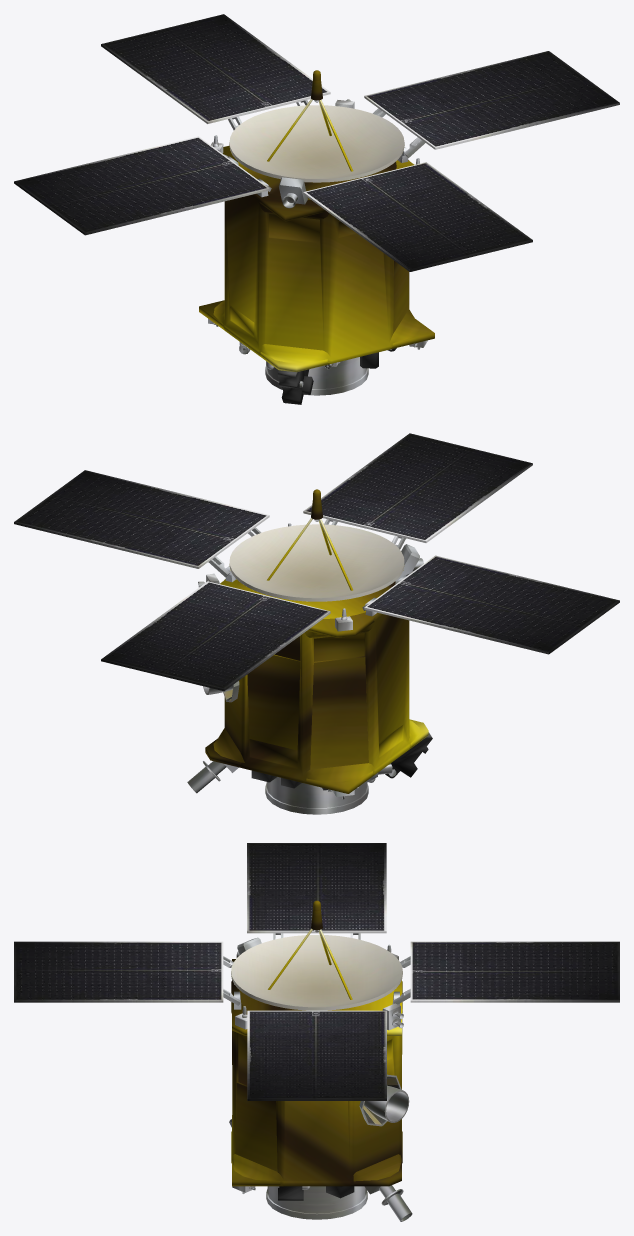
Rendered from space-near.glb.
3 views of the same model, one above another, from view 1: azimuth 30°, elevation 25°; view 2: azimuth 150°, elevation 25°; view 3: azimuth 270°, elevation 25° (orthographic).
Visible parts, largest first — view 1: tex_01, foil_gold, foil_silver; view 2: tex_01, foil_gold, foil_silver; view 3: tex_01, foil_gold, foil_silver.
Boxes of the visible parts, bbox=[...] form: tex_01: bbox=[14, 14, 619, 395]; foil_gold: bbox=[199, 70, 434, 372]; foil_silver: bbox=[277, 348, 396, 404]; tex_01: bbox=[14, 433, 619, 814]; foil_gold: bbox=[205, 489, 428, 793]; foil_silver: bbox=[251, 732, 432, 790]; tex_01: bbox=[14, 843, 619, 1221]; foil_gold: bbox=[231, 900, 402, 1186]; foil_silver: bbox=[229, 1119, 354, 1200].
Bounding box in the file's own units: 5.29 × 2.86 × 5.29.
Materials: 3 (3 with a texture image).
